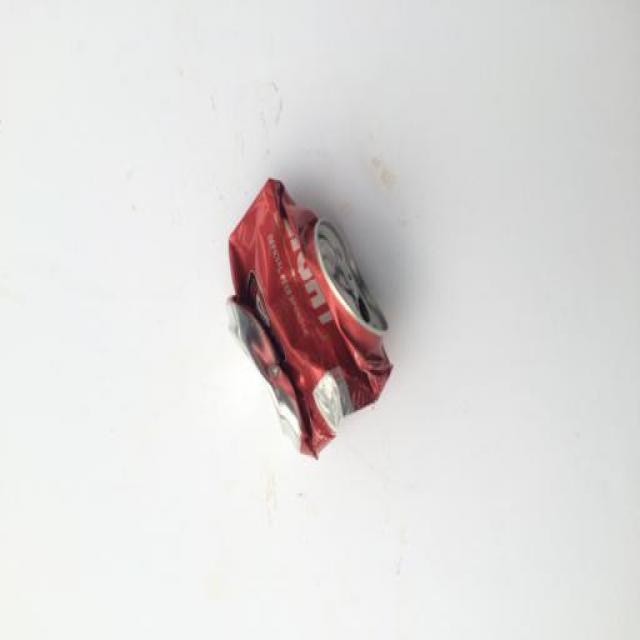metel: (209, 172, 418, 473)
